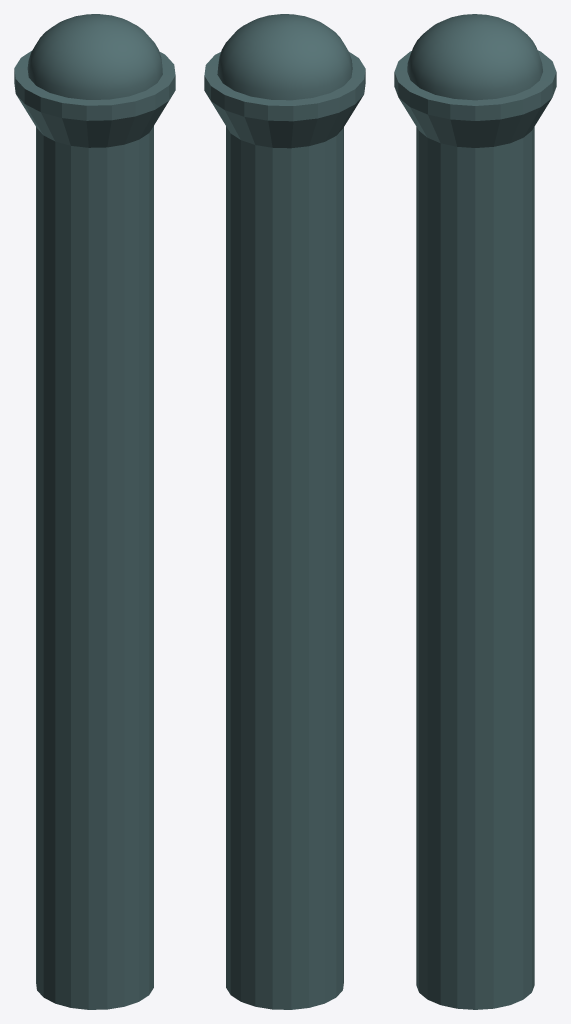
The model's file is IceCreamTower.fbx.
The picture shows the model from 3 angles, left to right: view 1: azimuth 30°, elevation 25°; view 2: azimuth 150°, elevation 25°; view 3: azimuth 270°, elevation 25°; orthographic projection.
Visible parts, largest first — view 1: IceCreamTower; view 2: IceCreamTower; view 3: IceCreamTower.
Part boxes in pixels (bbox=[...]): IceCreamTower: bbox=[14, 14, 175, 1009]; IceCreamTower: bbox=[204, 14, 365, 1009]; IceCreamTower: bbox=[394, 14, 556, 1009].
Bounding box in the file's own units: 110 × 723 × 110.
